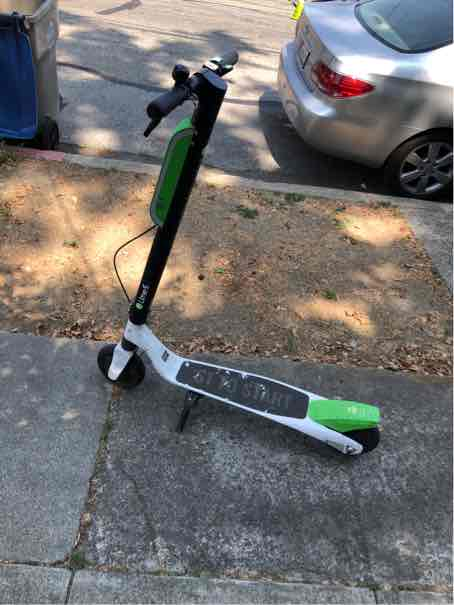scooter: (103, 54, 393, 447)
